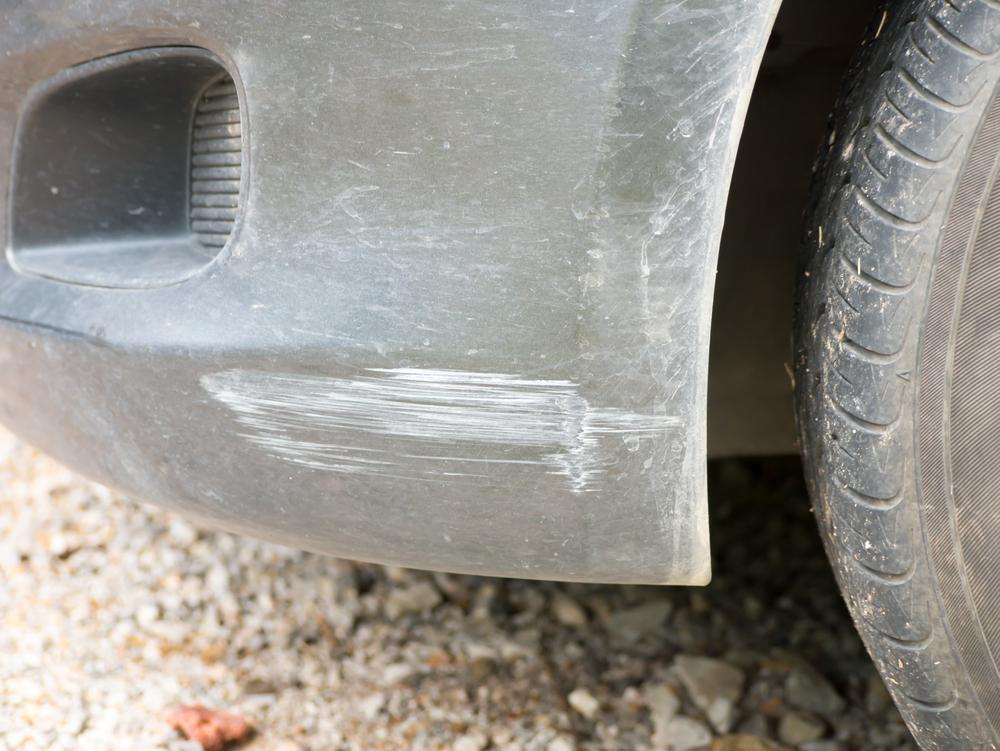scratch: (192, 361, 688, 492)
